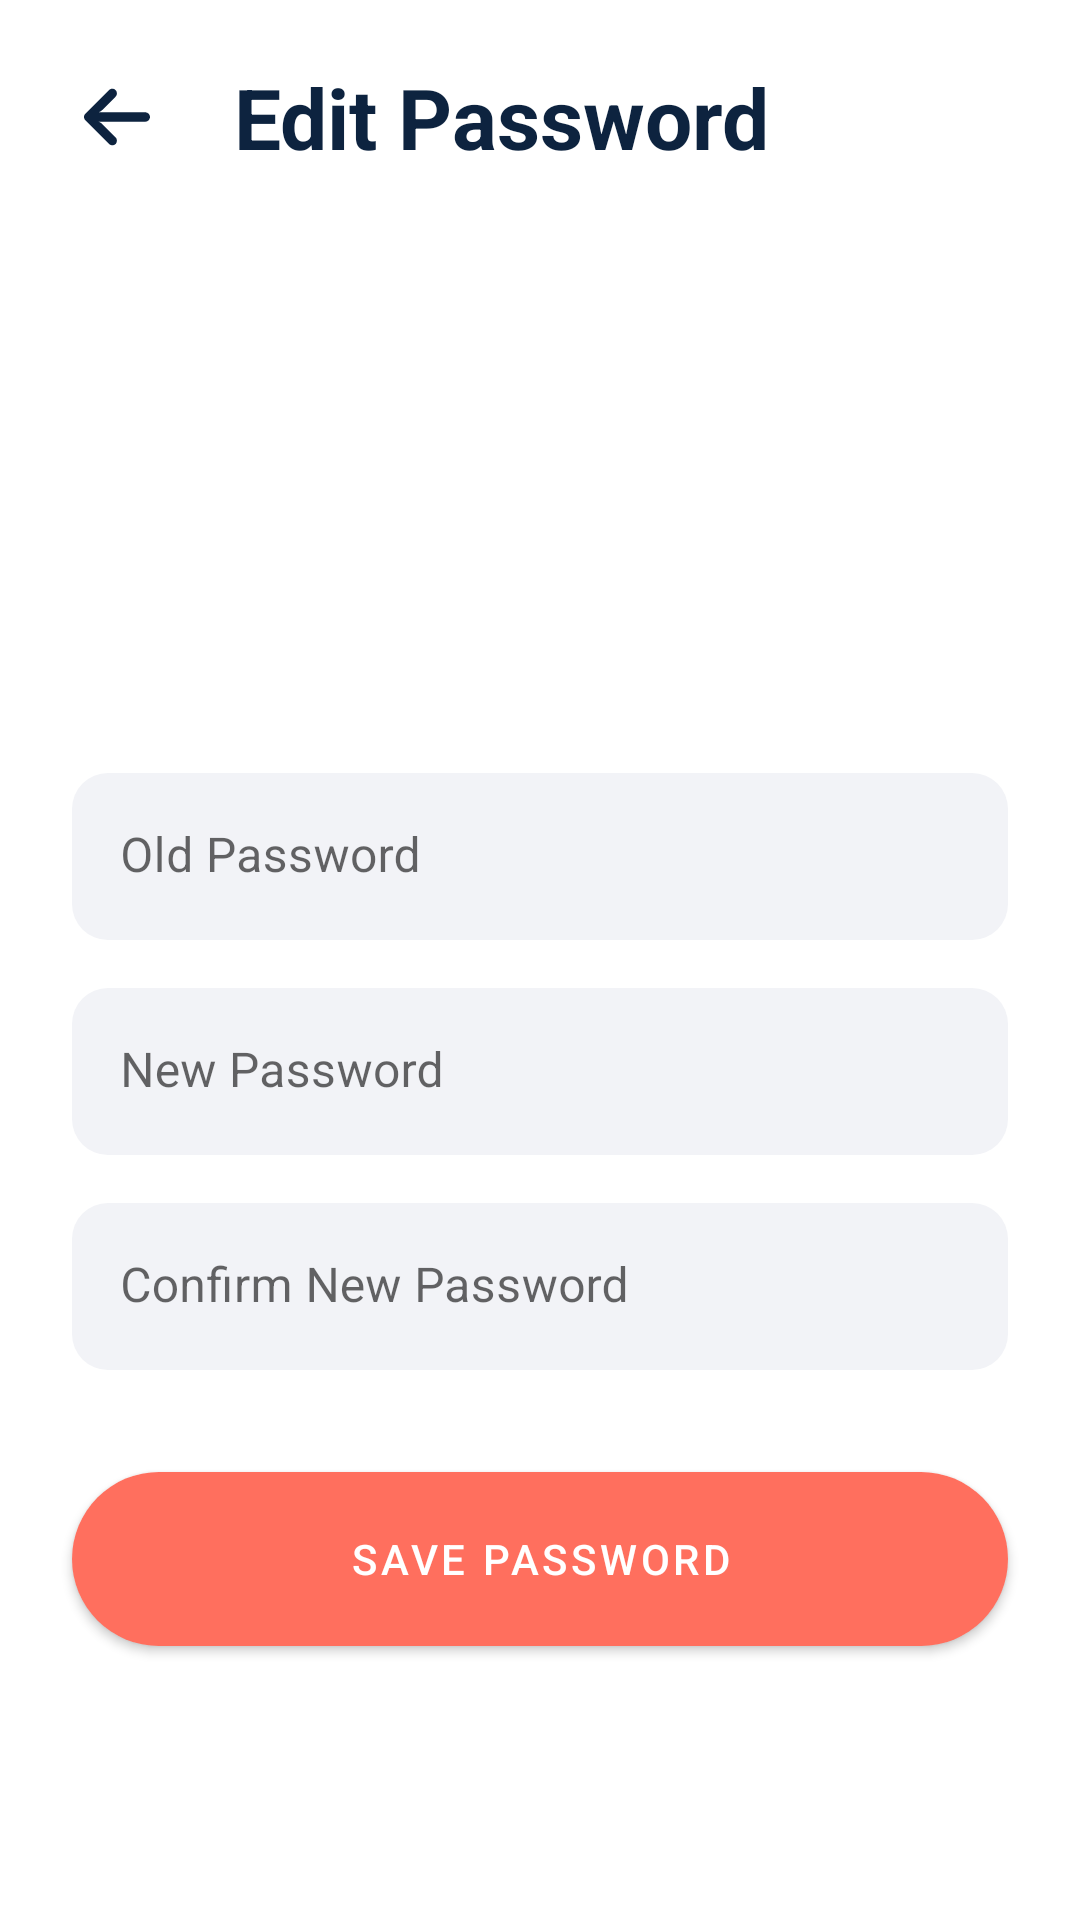

Locate icon controls on the screen. Image size 1080 × 1920, boxes as [x1,y1,x2,y2].
arrow: [84,88,150,146]
